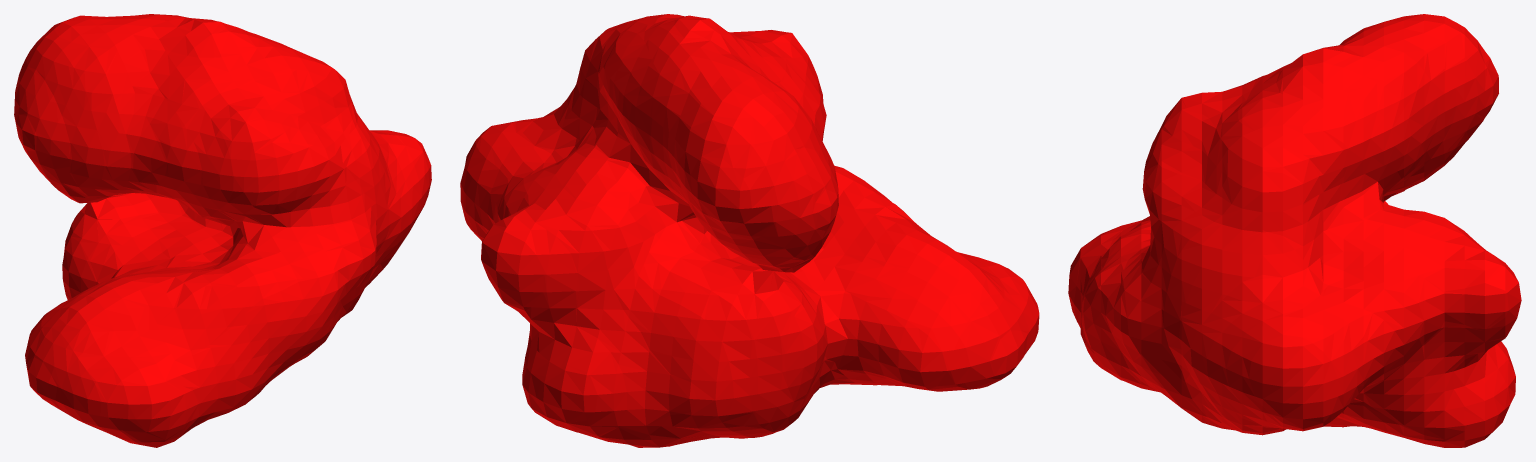
Rendered from ybeL_coarse.dae.
3 renders of one model, left to right at view 1: azimuth 30°, elevation 25°; view 2: azimuth 150°, elevation 25°; view 3: azimuth 270°, elevation 25°, orthographic. The views are drawn at different scales.
Parts seen in each view (by area): view 1: ybeL; view 2: ybeL; view 3: ybeL.
Part boxes in pixels (bbox=[...]): ybeL: bbox=[14, 14, 431, 447]; ybeL: bbox=[460, 14, 1039, 447]; ybeL: bbox=[1068, 14, 1521, 447].
Bounding box in the file's own units: 57.21 × 43.13 × 44.97.
